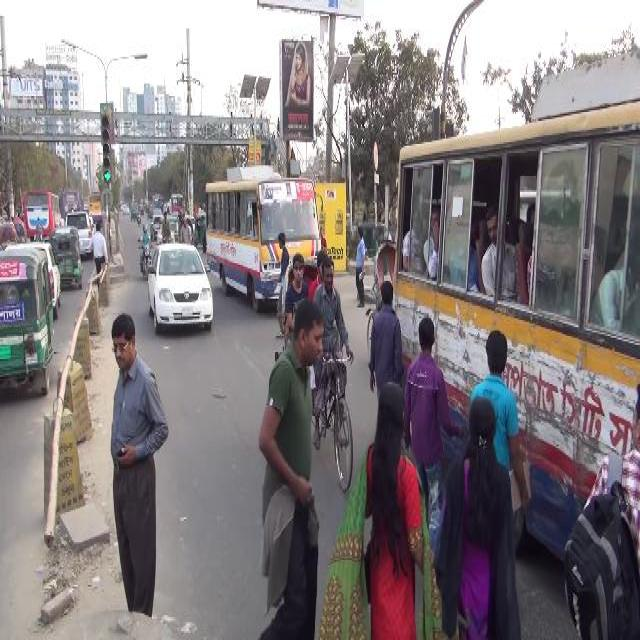10: (136, 221, 154, 280)
13: (276, 252, 352, 498), (364, 234, 394, 364), (0, 217, 19, 254), (177, 213, 193, 246), (13, 216, 27, 243)
17: (0, 245, 55, 406), (50, 223, 82, 300), (359, 219, 389, 272), (194, 212, 206, 250), (145, 204, 153, 218), (130, 204, 136, 218)
19: (157, 210, 175, 244)
5: (143, 238, 217, 334), (123, 204, 129, 216)
9: (64, 212, 96, 254)
Motorcycle: (32, 212, 44, 240)
Truck: (392, 48, 640, 571), (204, 162, 326, 314), (21, 186, 60, 237), (86, 187, 102, 225), (60, 188, 82, 214)
